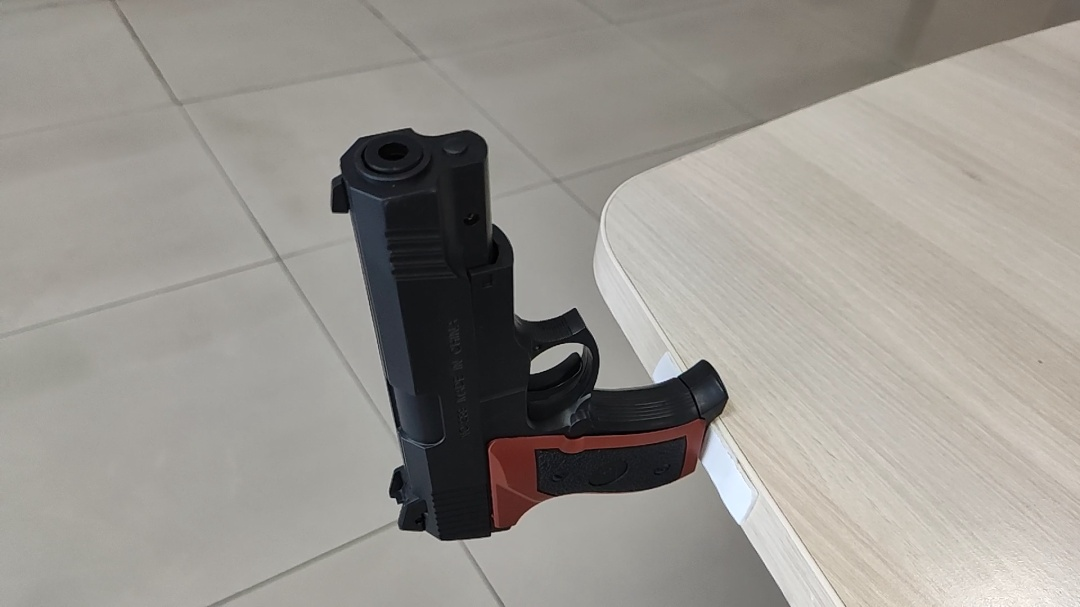gun: (321, 128, 727, 539)
